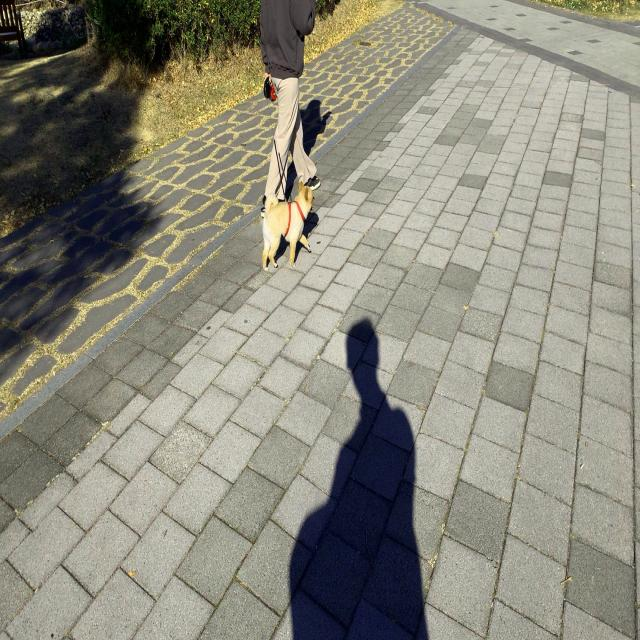Leashed_Dog: (262, 134, 315, 271)
